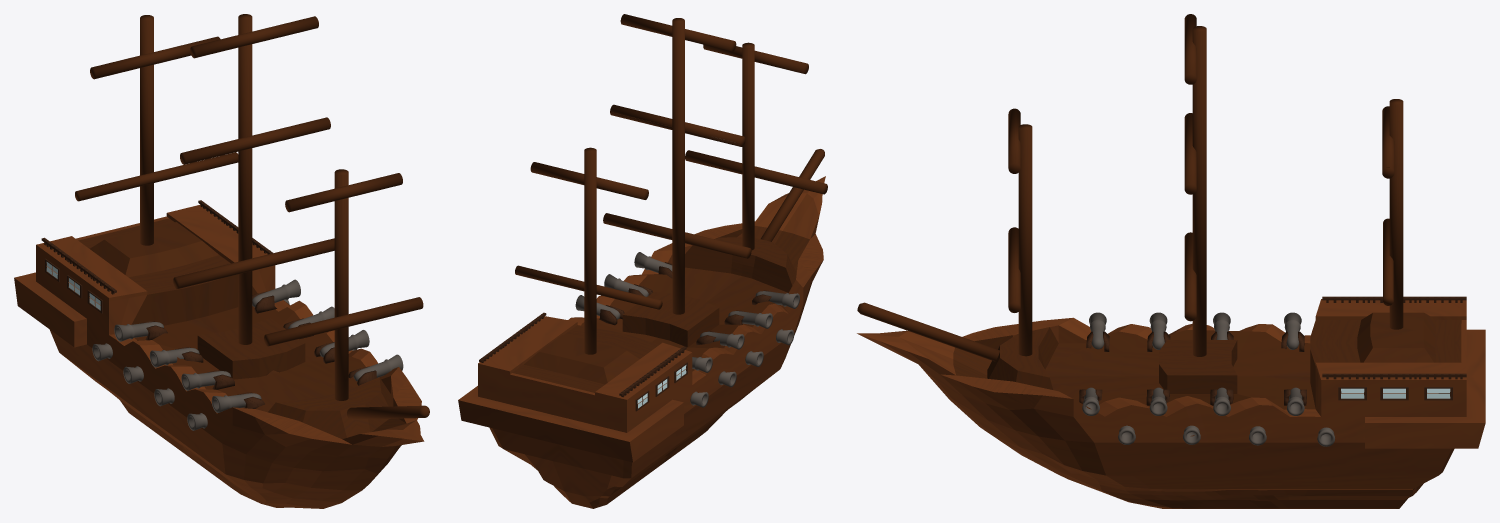
The model's file is paatti.fbx.
3 renders of one model, left to right at view 1: azimuth 30°, elevation 25°; view 2: azimuth 150°, elevation 25°; view 3: azimuth 270°, elevation 25°, orthographic. The views are drawn at different scales.
Parts seen in each view (by area): view 1: Cube, Cylinder.001, Cylinder.002, Cylinder, Cylinder.019, Cylinder.020, Cylinder.015, Cylinder.021, Cylinder.016, Cylinder.017, Cylinder.018, Cylinder.034 (+6 smaller); view 2: Cube, Cylinder.001, Cylinder, Cylinder.002, Cylinder.019, Cylinder.020, Cylinder.015, Cylinder.021, Cylinder.018, Cylinder.016, Cylinder.034, Cylinder.017 (+4 smaller); view 3: Cube, Cylinder.001, Cylinder.002, Cylinder, Cylinder.034, Cylinder.020, Cylinder.019, Cylinder.015, Cylinder.016, Cylinder.017, Cylinder.021, Cylinder.018.
Boxes of the visible parts, x1,y1,x2,y2 form: Cube: (14, 204, 424, 508); Cylinder.001: (238, 14, 252, 344); Cylinder.002: (334, 169, 348, 400); Cylinder: (140, 15, 153, 245); Cylinder.019: (173, 238, 334, 288); Cylinder.020: (264, 297, 423, 346); Cylinder.015: (180, 117, 330, 164); Cylinder.021: (75, 152, 238, 201); Cylinder.016: (190, 16, 318, 58); Cylinder.017: (285, 173, 402, 212); Cylinder.018: (90, 36, 220, 79); Cylinder.034: (347, 405, 429, 419); Cube: (458, 176, 825, 508); Cylinder.001: (672, 18, 684, 314); Cylinder: (584, 147, 596, 354); Cylinder.002: (742, 42, 754, 250); Cylinder.019: (603, 213, 751, 258); Cylinder.020: (685, 150, 827, 194); Cylinder.015: (610, 104, 745, 146); Cylinder.021: (515, 265, 662, 309); Cylinder.018: (530, 162, 648, 199); Cylinder.016: (620, 14, 736, 51); Cylinder.034: (761, 149, 824, 241); Cylinder.017: (703, 44, 808, 74); Cube: (857, 299, 1485, 508); Cylinder.001: (1192, 26, 1206, 356); Cylinder.002: (1018, 124, 1032, 356); Cylinder: (1389, 99, 1403, 329); Cylinder.034: (857, 302, 999, 361); Cylinder.020: (1008, 227, 1020, 312); Cylinder.019: (1184, 232, 1196, 321); Cylinder.015: (1184, 113, 1196, 194); Cylinder.016: (1184, 14, 1196, 84); Cylinder.017: (1008, 108, 1020, 173); Cylinder.021: (1383, 218, 1393, 305); Cylinder.018: (1382, 106, 1394, 178).
Bounding box in the file's own units: 729 × 1693 × 2051.
